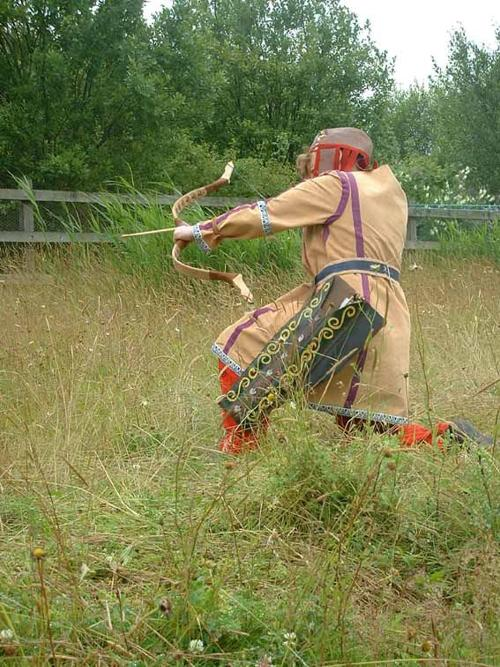person: (173, 124, 474, 459)
